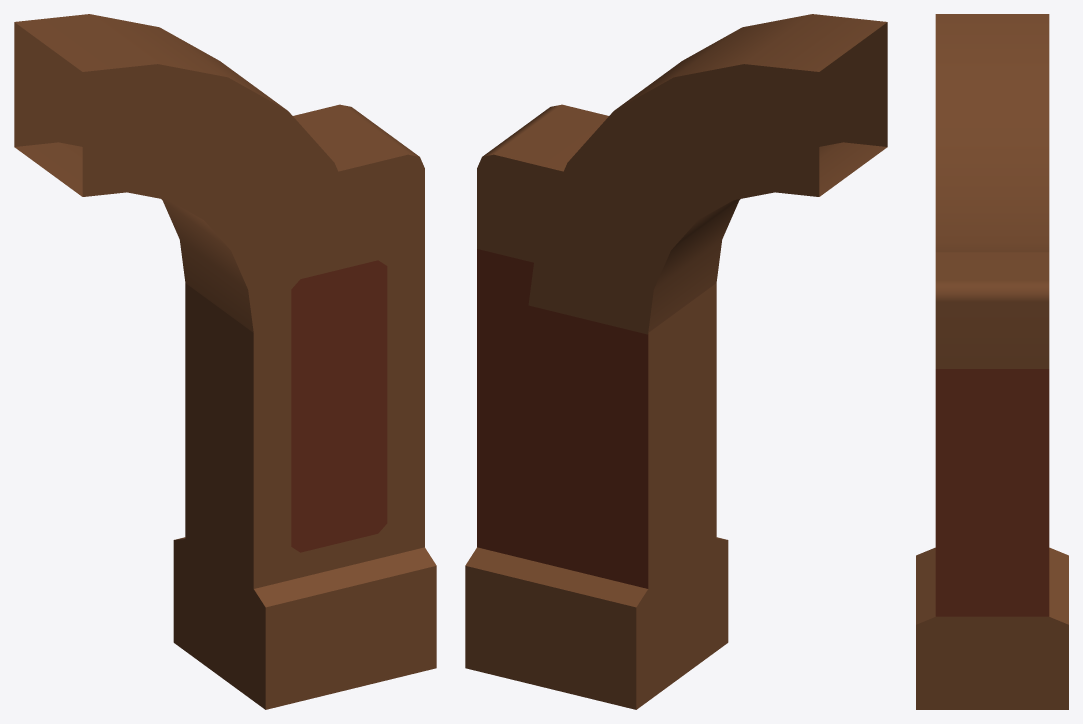
Rendered from BrickGateR_Mesh.fbx.
3 views of the same model, side by side, from view 1: azimuth 30°, elevation 25°; view 2: azimuth 150°, elevation 25°; view 3: azimuth 270°, elevation 25° (orthographic). The views are drawn at different scales.
Parts seen in each view (by area): view 1: BrickGateR_Mesh; view 2: BrickGateR_Mesh; view 3: BrickGateR_Mesh.
Boxes of the visible parts, x1=… form: BrickGateR_Mesh: x1=14, y1=14, x2=436, y2=709; BrickGateR_Mesh: x1=465, y1=14, x2=887, y2=709; BrickGateR_Mesh: x1=916, y1=14, x2=1068, y2=709.
Bounding box in the file's own units: 1 × 1.87 × 0.4661.
